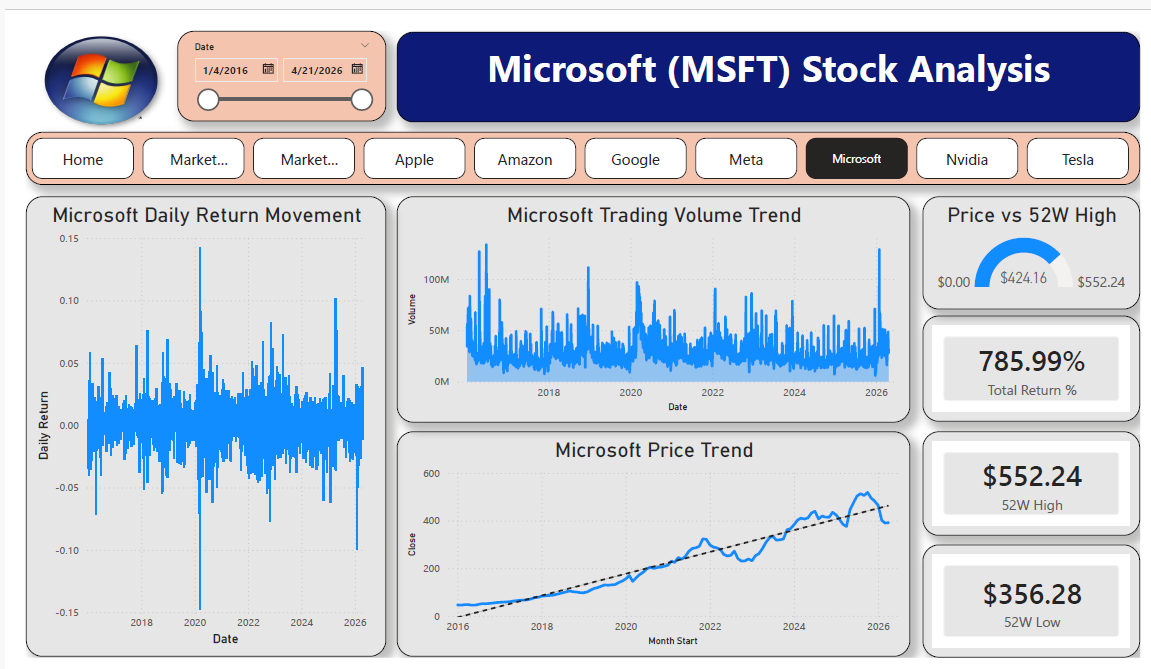

The dashboard page shown, as its layout file describes it:
{"tool":"powerbi","page":{"name":"Microsoft","canvas":[1280,720],"ordinal":7},"visuals":[{"type":"image","box":[15,1.2,150,116.2],"z":0},{"type":"textbox","box":[426.2,1.2,853.8,103.8],"z":1000},{"type":"slicer","fields":{"Values":["DateTable.Date"]},"box":[173.8,0,240,103.8],"z":2000},{"type":"pageNavigator","box":[0,115.7,1280,61.4],"z":3000},{"type":"cardVisual","fields":{"Data":["mag7_powerbi_ready.Total Return %"]},"box":[1030,327.1,250,121.4],"z":5000},{"type":"cardVisual","fields":{"Data":["mag7_powerbi_ready.52W High"]},"box":[1030,460,250,120],"z":6000},{"type":"cardVisual","fields":{"Data":["mag7_powerbi_ready.52W Low"]},"box":[1030,590,250,130],"z":7000},{"type":"lineChart","title":"Microsoft Price Trend ","fields":{"Y":["Avg(mag7_powerbi_ready.Close)"],"Category":["mag7_powerbi_ready.Month Start"]},"box":[426.2,460,590,258.8],"z":8000},{"type":"areaChart","title":"Microsoft Trading Volume Trend","fields":{"Y":["Avg(mag7_powerbi_ready.Volume)"],"Category":["DateTable.Date"]},"box":[425.7,190,590,260],"z":9000},{"type":"clusteredColumnChart","title":"Microsoft Daily Return Movement","fields":{"Y":["Avg(mag7_powerbi_ready.Daily_Return)"],"Category":["DateTable.Date"]},"box":[0,190,413.8,528.8],"z":10000},{"type":"gauge","title":"Price vs 52W High","fields":{"MaxValue":["mag7_powerbi_ready.52W High"],"Y":["mag7_powerbi_ready.Latest Close"]},"box":[1029.7,189.6,250.3,130.1],"z":10001}]}

Visuals, with their boxes on the page's 1280x720 design canvas (x1, y1, x2, y2). These are canvas units, not pixel positions in the 1151x669 screenshot, which may show the page scaled, cropped or inside an application window:
image: 15, 1, 165, 117
textbox: 426, 1, 1280, 105
slicer - DateTable.Date: 174, 0, 414, 104
pageNavigator: 0, 116, 1280, 177
cardVisual - mag7_powerbi_ready.Total Return %: 1030, 327, 1280, 448
cardVisual - mag7_powerbi_ready.52W High: 1030, 460, 1280, 580
cardVisual - mag7_powerbi_ready.52W Low: 1030, 590, 1280, 720
"Microsoft Price Trend " lineChart: 426, 460, 1016, 719
"Microsoft Trading Volume Trend" areaChart: 426, 190, 1016, 450
"Microsoft Daily Return Movement" clusteredColumnChart: 0, 190, 414, 719
"Price vs 52W High" gauge: 1030, 190, 1280, 320
